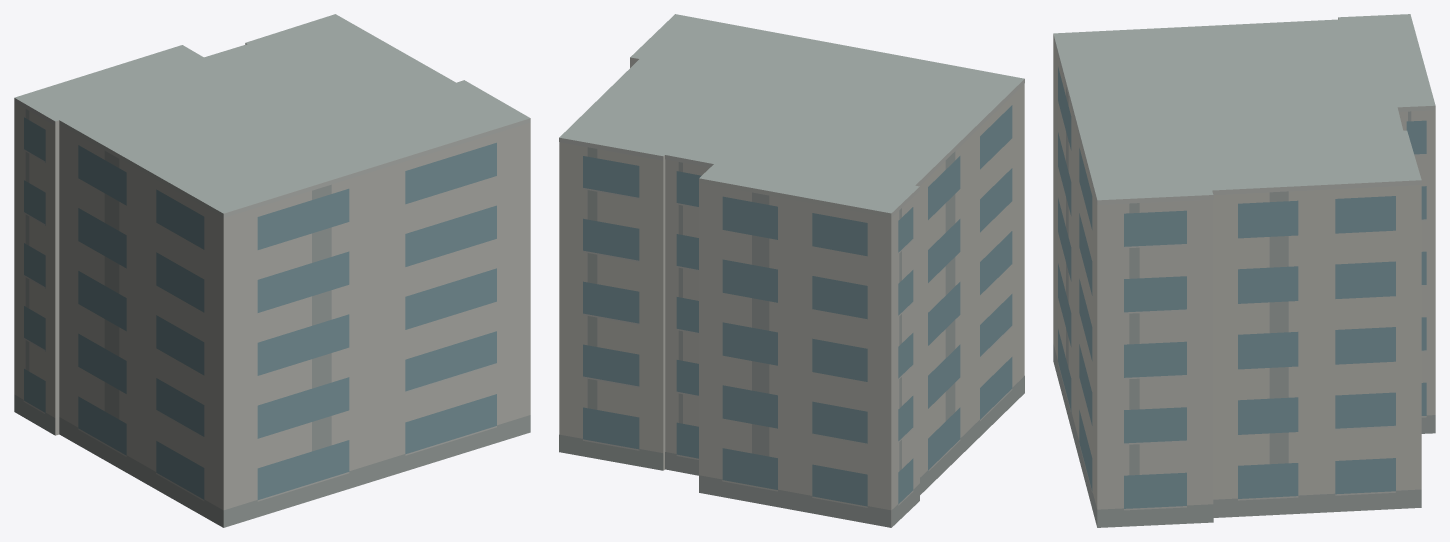
Rendered from survey-upis-32595568.glb.
3 views of the same model, side by side, from view 1: azimuth 30°, elevation 25°; view 2: azimuth 150°, elevation 25°; view 3: azimuth 270°, elevation 25° (orthographic). The views are drawn at different scales.
Visible parts, largest first — view 1: survey-upis-32595568.tmp; view 2: survey-upis-32595568.tmp; view 3: survey-upis-32595568.tmp.
Boxes of the visible parts, <box> form: survey-upis-32595568.tmp: <box>14,14,530,527</box>; survey-upis-32595568.tmp: <box>559,14,1024,527</box>; survey-upis-32595568.tmp: <box>1053,14,1435,527</box>.
Bounding box in the file's own units: 20.87 × 17.1 × 18.1.
